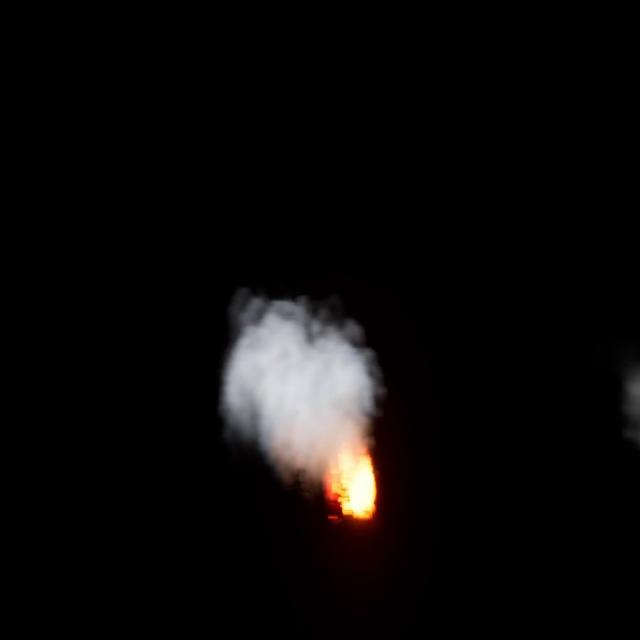fire: (325, 444, 376, 528)
smoke: (216, 291, 377, 486)
